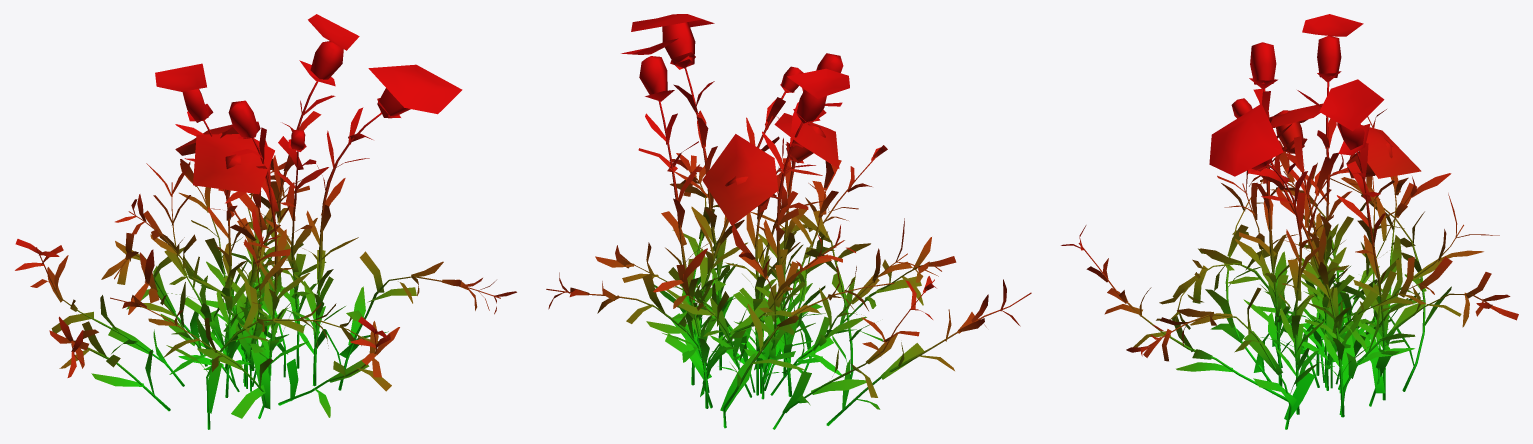
The model's file is Var1_LOD2.fbx.
3 renders of one model, left to right at view 1: azimuth 30°, elevation 25°; view 2: azimuth 150°, elevation 25°; view 3: azimuth 270°, elevation 25°, orthographic. The views are drawn at different scales.
Parts seen in each view (by area): view 1: _p5o6_Var1_LOD2; view 2: _p5o6_Var1_LOD2; view 3: _p5o6_Var1_LOD2.
Part boxes in pixels (bbox=[...]): _p5o6_Var1_LOD2: bbox=[15, 14, 516, 429]; _p5o6_Var1_LOD2: bbox=[546, 14, 1031, 429]; _p5o6_Var1_LOD2: bbox=[1061, 14, 1518, 429].
Bounding box in the file's own units: 31.83 × 26.7 × 31.15.
